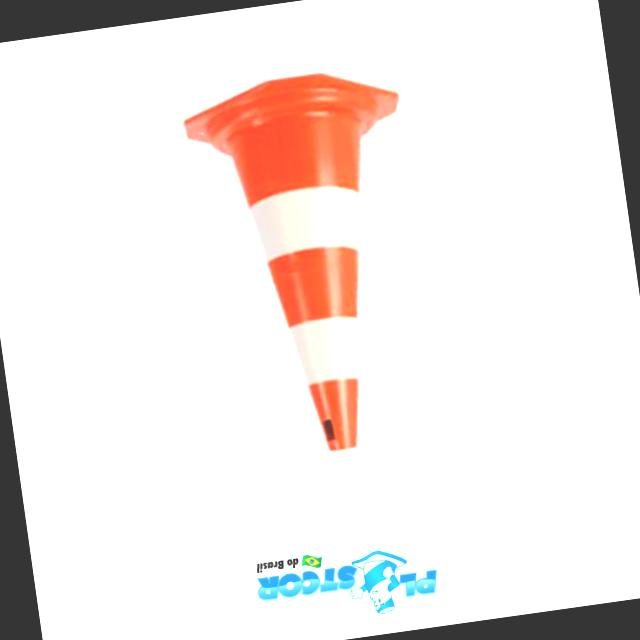cone: (180, 71, 450, 462)
